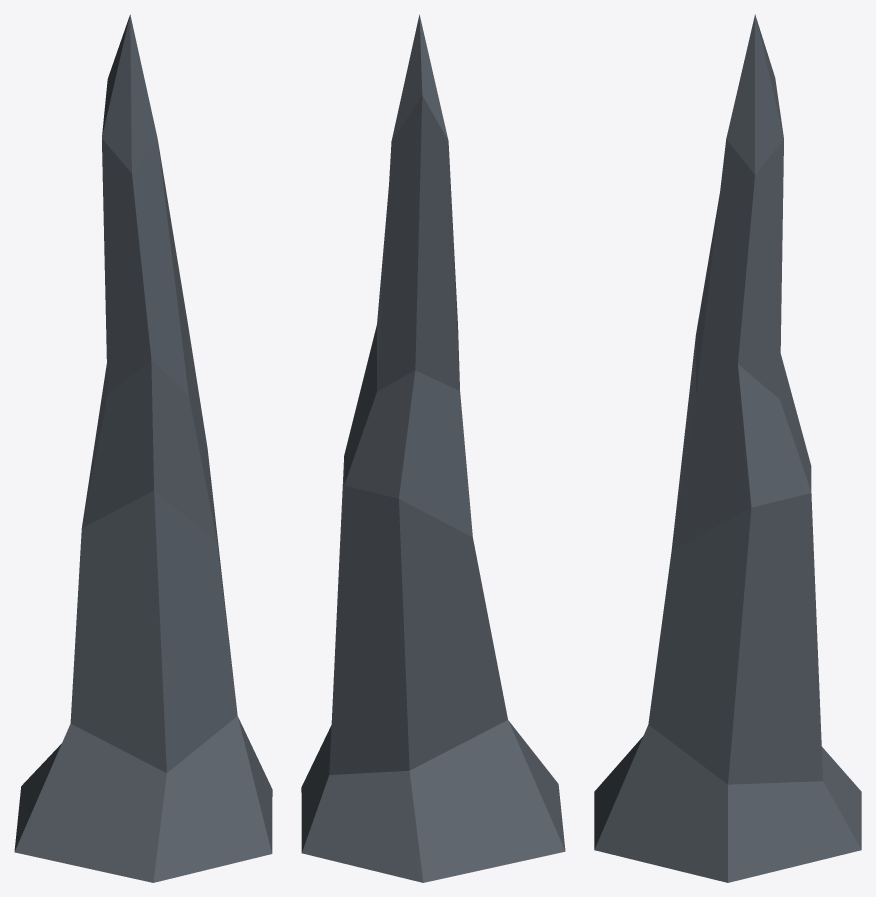
Rendered from Stalagmite-B07.fbx.
3 views of the same model, side by side, from view 1: azimuth 30°, elevation 25°; view 2: azimuth 150°, elevation 25°; view 3: azimuth 270°, elevation 25° (orthographic). The views are drawn at different scales.
Parts seen in each view (by area): view 1: Stalagmite-B07; view 2: Stalagmite-B07; view 3: Stalagmite-B07.
Boxes of the visible parts, x1,y1,x2,y2 form: Stalagmite-B07: (14, 14, 272, 882); Stalagmite-B07: (301, 14, 565, 882); Stalagmite-B07: (594, 14, 861, 882).
Size of the model in its own units: 90.64 by 267 by 80.42.
